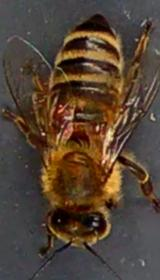varroa_mite: (48, 102, 72, 123)
